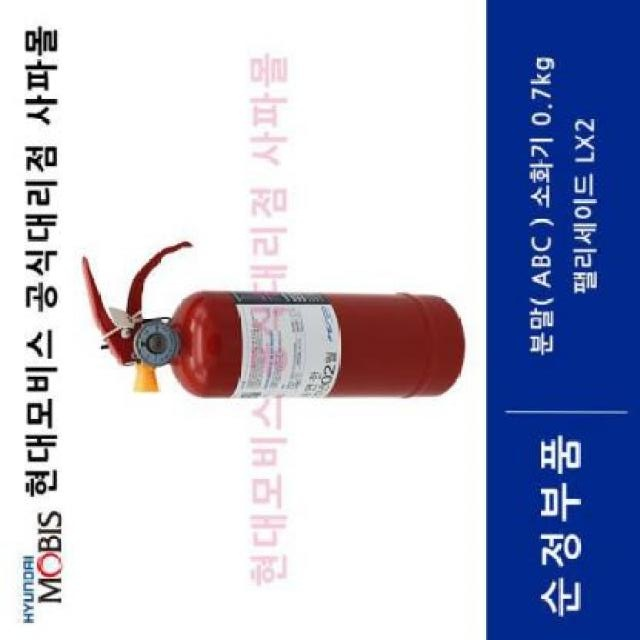fire extinguisher: (81, 240, 467, 400)
